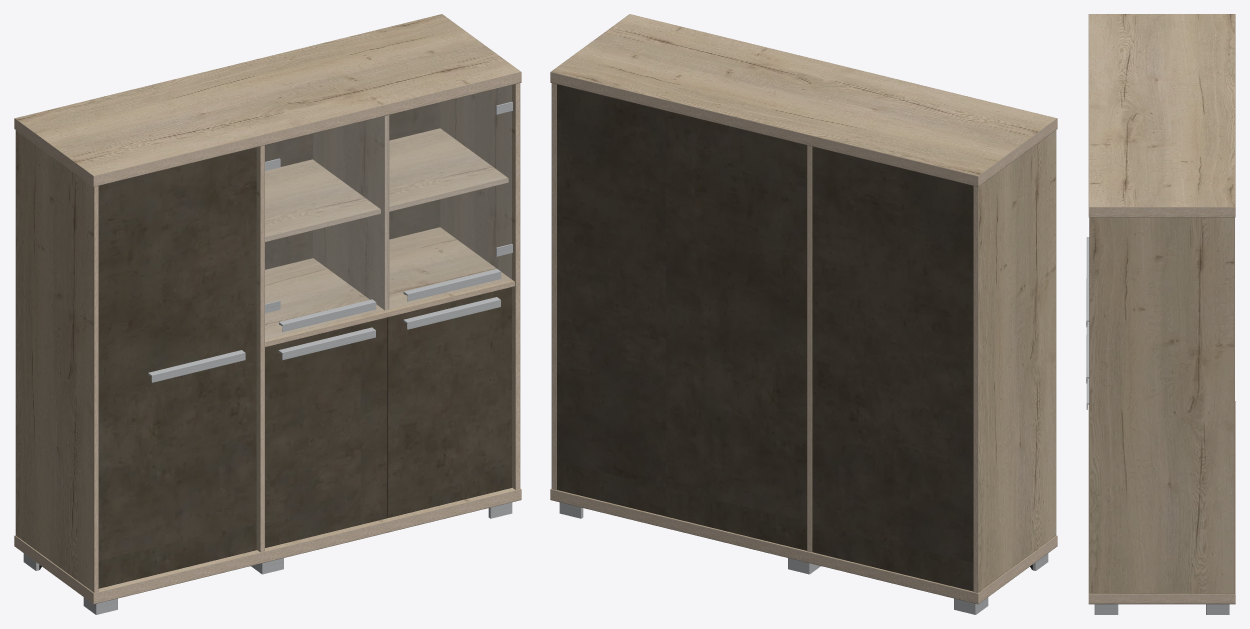
3 renders of one model, left to right at view 1: azimuth 30°, elevation 25°; view 2: azimuth 150°, elevation 25°; view 3: azimuth 270°, elevation 25°, orthographic. The views are drawn at different scales.
Parts seen in each view (by area): view 1: Line1789532158, Line1789532140, Line1789532142, Line1789532160, Line1789532159, Box1578995142, Box1578995145, Line1789532144, Line1789532164, Line1789532163, Line1789532141, Line1789532155 (+8 smaller); view 2: Line1789532162, Line1789532143, Line1789532140, Line1789532142, Line1789532141, Line1789532144, Line1789532145; view 3: Line1789532144, Line1789532140, Line1789532141, Object5792, Object5793.
Boxes of the visible parts, <box> form: Line1789532158: <box>98,147,256,588</box>; Line1789532140: <box>14,14,521,186</box>; Line1789532142: <box>15,130,98,592</box>; Line1789532160: <box>387,287,511,517</box>; Line1789532159: <box>265,317,387,547</box>; Box1578995142: <box>388,85,511,309</box>; Box1578995145: <box>265,116,386,338</box>; Line1789532144: <box>440,83,520,489</box>; Line1789532164: <box>265,227,514,347</box>; Line1789532163: <box>313,115,389,310</box>; Line1789532141: <box>14,488,521,604</box>; Line1789532155: <box>389,128,508,211</box>; Line1789532162: <box>557,84,806,550</box>; Line1789532143: <box>812,146,973,591</box>; Line1789532140: <box>550,14,1057,186</box>; Line1789532142: <box>973,130,1056,592</box>; Line1789532141: <box>550,489,1057,604</box>; Line1789532144: <box>551,83,556,489</box>; Line1789532145: <box>807,145,812,552</box>; Line1789532144: <box>1089,217,1234,593</box>; Line1789532140: <box>1088,14,1235,217</box>; Line1789532141: <box>1088,401,1235,604</box>; Object5792: <box>1094,604,1118,614</box>; Object5793: <box>1206,604,1229,614</box>.
Size of the model in its own units: 1.56 by 1.54 by 0.5078.
7 materials, 5 textured.
